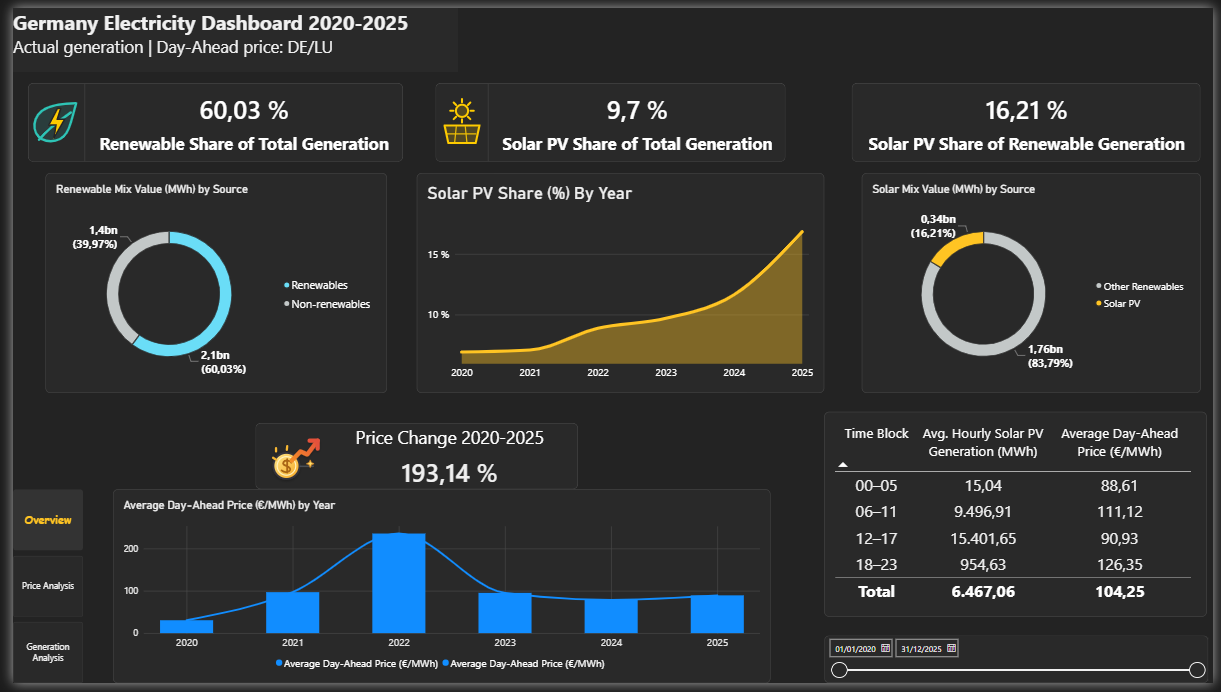

The dashboard page shown, as its layout file describes it:
{"tool":"powerbi","page":{"name":"Overview","canvas":[1920,1080],"ordinal":0},"visuals":[{"type":"tableEx","fields":{"Values":["DimHour.Time Block","Generation_2025.Average Solar PV Generation (MWh)","Price_2025.Average Day-Ahead Price (€/MWh)"]},"box":[1298,646,612,328],"z":0},{"type":"slicer","fields":{"Values":["DimHour.DateTime"]},"box":[1298,1004,614,76],"z":1000},{"type":"textbox","box":[0,0,712,102],"z":3000},{"type":"areaChart","title":"Solar PV Share (%) By Year","fields":{"Category":["Generation_2020_2025.Datum von.Variation.Date Hierarchy.Year"],"Y":["Generation_2020_2025.Solar PV Share (%)"]},"box":[646,264,652,352],"z":4000},{"type":"pageNavigator","box":[0,770,112,310],"z":5000},{"type":"cardVisual","title":"Total Electricity Generation (MWh)_ 2020-2025","fields":{"Data":["Generation_2020_2025.Solar PV Share (%)"]},"box":[676,120,560,126],"z":6000},{"type":"cardVisual","title":"Total Electricity Generation (MWh)_ 2020-2025","fields":{"Data":["Generation_2020_2025.Solar PV Share of Renewable Generation (%)"]},"box":[1342,120,558,126],"z":7000},{"type":"cardVisual","title":"Total Electricity Generation (MWh)_ 2020-2025","fields":{"Data":["Generation_2020_2025.Renewable Share of Total Generation (%)"]},"box":[24,120,600,126],"z":8000},{"type":"cardVisual","fields":{"Data":["Price_2020_2025.Price Change 2020-2025 (%)"]},"box":[388,664,516,106],"z":10000},{"type":"lineStackedColumnComboChart","title":"Average Day-Ahead Price (€/MWh) by Year","fields":{"Category":["DimHour.DateTime.Variation.Date Hierarchy.Year"],"Y":["Price_2020_2025.Average Day-Ahead Price (€/MWh)"],"Y2":["Price_2020_2025.Average Day-Ahead Price (€/MWh)"]},"box":[160,770,1052,310],"z":11001},{"type":"donutChart","fields":{"Category":["Renewable Mix.Source"],"Y":["Generation_2020_2025.Renewable Mix Value (MWh)"]},"box":[52,264,546,352],"z":11002},{"type":"donutChart","fields":{"Category":["Solar Mix.Source"],"Y":["Generation_2020_2025.Solar Mix Value (MWh)"]},"box":[1358,264,542,352],"z":11003}]}

Visuals, with their boxes in screenshot pixels (x1, y1, x2, y2), scaled from the page's 1920x1080 canvas onto the 1221x692 screenshot:
tableEx - DimHour.Time Block x Generation_2025.Average Solar PV Generation (MWh): bbox=(825, 414, 1215, 624)
slicer - DimHour.DateTime: bbox=(825, 643, 1216, 691)
textbox: bbox=(0, 0, 453, 65)
"Solar PV Share (%) By Year" areaChart: bbox=(411, 169, 825, 395)
pageNavigator: bbox=(0, 493, 71, 691)
"Total Electricity Generation (MWh)_ 2020-2025" cardVisual: bbox=(430, 77, 786, 158)
"Total Electricity Generation (MWh)_ 2020-2025" cardVisual: bbox=(853, 77, 1208, 158)
"Total Electricity Generation (MWh)_ 2020-2025" cardVisual: bbox=(15, 77, 397, 158)
cardVisual - Price_2020_2025.Price Change 2020-2025 (%): bbox=(247, 425, 575, 493)
"Average Day-Ahead Price (€/MWh) by Year" lineStackedColumnComboChart: bbox=(102, 493, 771, 691)
donutChart - Renewable Mix.Source x Generation_2020_2025.Renewable Mix Value (MWh): bbox=(33, 169, 380, 395)
donutChart - Solar Mix.Source x Generation_2020_2025.Solar Mix Value (MWh): bbox=(864, 169, 1208, 395)
